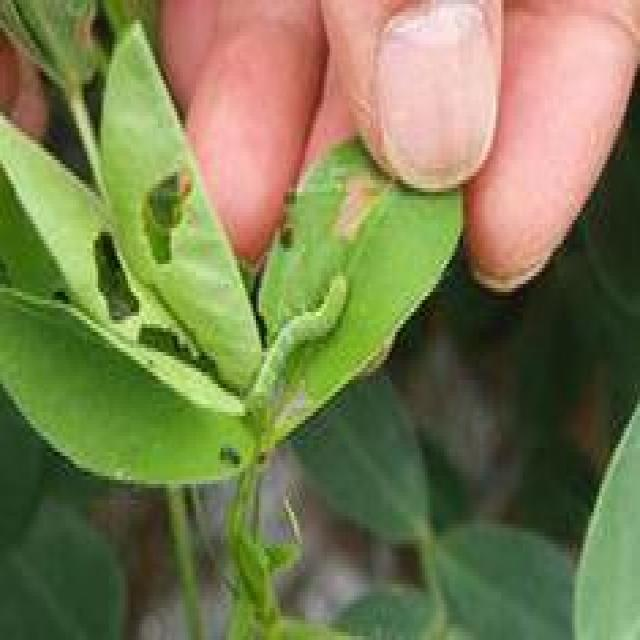BeetArmyWorm-Larva-: (248, 270, 355, 416)
